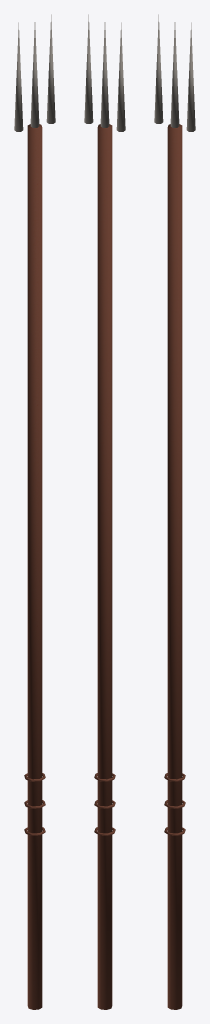
Rendered from pitchfork.glb.
3 views of the same model, side by side, from view 1: azimuth 30°, elevation 25°; view 2: azimuth 150°, elevation 25°; view 3: azimuth 330°, elevation 25° (orthographic).
Visible parts, largest first — view 1: pitchfork; view 2: pitchfork; view 3: pitchfork.
Part boxes in pixels (x1=…): pitchfork: x1=14, y1=14, x2=55, y2=1009; pitchfork: x1=84, y1=14, x2=125, y2=1009; pitchfork: x1=154, y1=14, x2=195, y2=1009.
Bounding box in the file's own units: 0.0604 × 1.46 × 0.03.
Materials: 2 (1 with a texture image).
